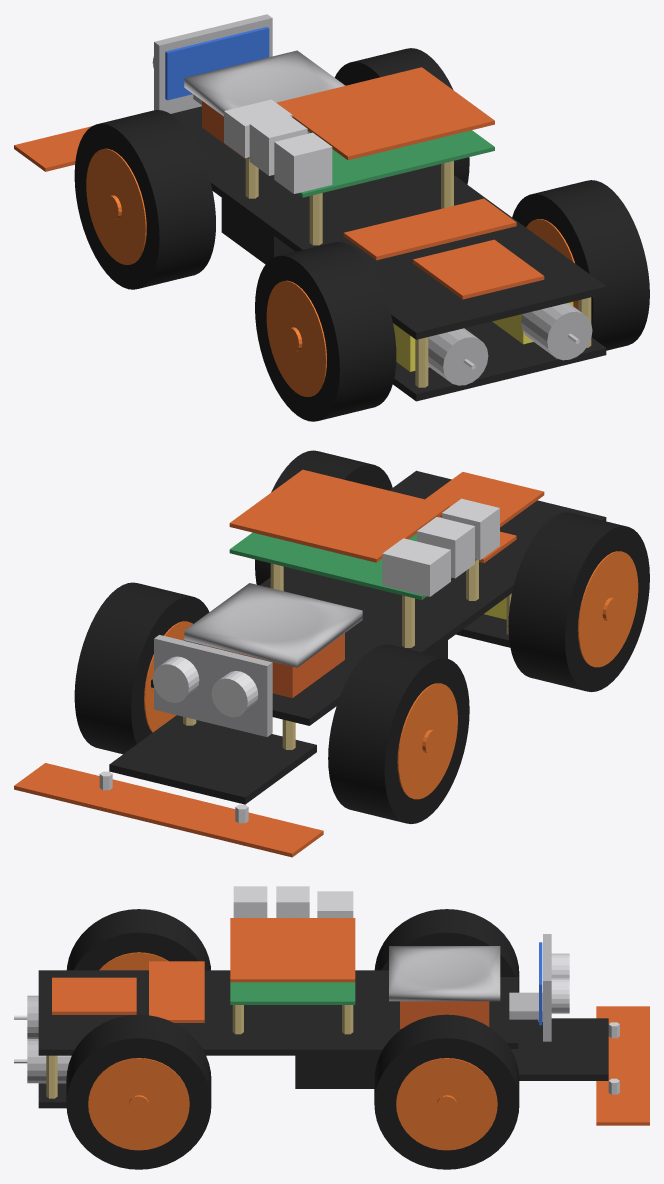
Rendered from picar.glb.
The picture shows the model from 3 angles, top to bottom: view 1: azimuth 30°, elevation 25°; view 2: azimuth 150°, elevation 25°; view 3: azimuth 270°, elevation 25°; orthographic projection. The views are drawn at different scales.
Parts seen in each view (by area): view 1: Pont, Roue_ARG, Roue_AVG, Roue_ARD, Robot_HAT, Moteurs, Ports_Pi, Ultrason, Plaquette, Carte_PCA9685, Plaque_Bas, Carte_TB6612 (+8 smaller); view 2: Roue_AVG, Roue_ARG, Roue_AVD, Pont, Robot_HAT, Plaque_Avant_Basse, Suiveur_Ligne, Ultrason, Plaquette, Ports_Pi, Raspberry_Pi, Carte_TB6612 (+6 smaller); view 3: Roue_AVD, Roue_ARD, Pont, Robot_HAT, Roue_ARG, Plaquette, Plaque_Avant_Basse, Suiveur_Ligne, Roue_AVG, Carte_PCA9685, Ultrason, Carte_TB6612 (+9 smaller).
Part boxes in pixels (left/top/right/bottom): Pont: left=203, top=151, right=606, bottom=339; Roue_ARG: left=255, top=242, right=396, bottom=421; Roue_AVG: left=74, top=110, right=215, bottom=289; Roue_ARD: left=512, top=180, right=649, bottom=350; Robot_HAT: left=276, top=67, right=494, bottom=160; Moteurs: left=393, top=301, right=592, bottom=385; Ports_Pi: left=224, top=99, right=332, bottom=193; Ultrason: left=152, top=14, right=272, bottom=113; Plaquette: left=184, top=50, right=345, bottom=116; Carte_PCA9685: left=343, top=198, right=516, bottom=260; Plaque_Bas: left=393, top=321, right=606, bottom=401; Carte_TB6612: left=413, top=239, right=544, bottom=299; Roue_AVG: left=328, top=644, right=469, bottom=823; Roue_ARG: left=508, top=512, right=649, bottom=691; Roue_AVD: left=74, top=582, right=209, bottom=754; Pont: left=184, top=470, right=606, bottom=680; Robot_HAT: left=229, top=469, right=449, bottom=562; Plaque_Avant_Basse: left=109, top=715, right=316, bottom=804; Suiveur_Ligne: left=14, top=763, right=323, bottom=857; Ultrason: left=152, top=635, right=272, bottom=736; Plaquette: left=184, top=583, right=362, bottom=667; Ports_Pi: left=382, top=498, right=499, bottom=596; Raspberry_Pi: left=229, top=532, right=476, bottom=599; Carte_TB6612: left=425, top=472, right=544, bottom=527; Roue_AVD: left=374, top=1014, right=519, bottom=1169; Roue_ARD: left=66, top=1014, right=211, bottom=1169; Pont: left=38, top=970, right=401, bottom=1055; Robot_HAT: left=230, top=918, right=355, bottom=982; Roue_ARG: left=66, top=909, right=210, bottom=970; Plaquette: left=389, top=946, right=500, bottom=1001; Plaque_Avant_Basse: left=510, top=1018, right=608, bottom=1080; Suiveur_Ligne: left=596, top=1006, right=649, bottom=1125; Roue_AVG: left=374, top=909, right=519, bottom=992; Carte_PCA9685: left=149, top=961, right=204, bottom=1022; Ultrason: left=509, top=934, right=569, bottom=1041; Carte_TB6612: left=52, top=977, right=136, bottom=1014.
Size of the model in its own units: 0.141 by 0.087 by 0.285.
